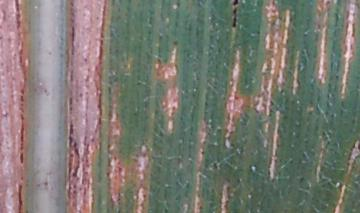tarspot: (230, 1, 241, 33)
